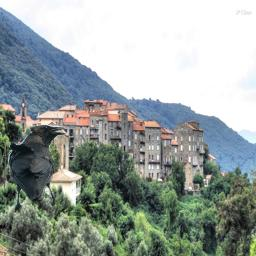Crow: (8, 122, 67, 216)
